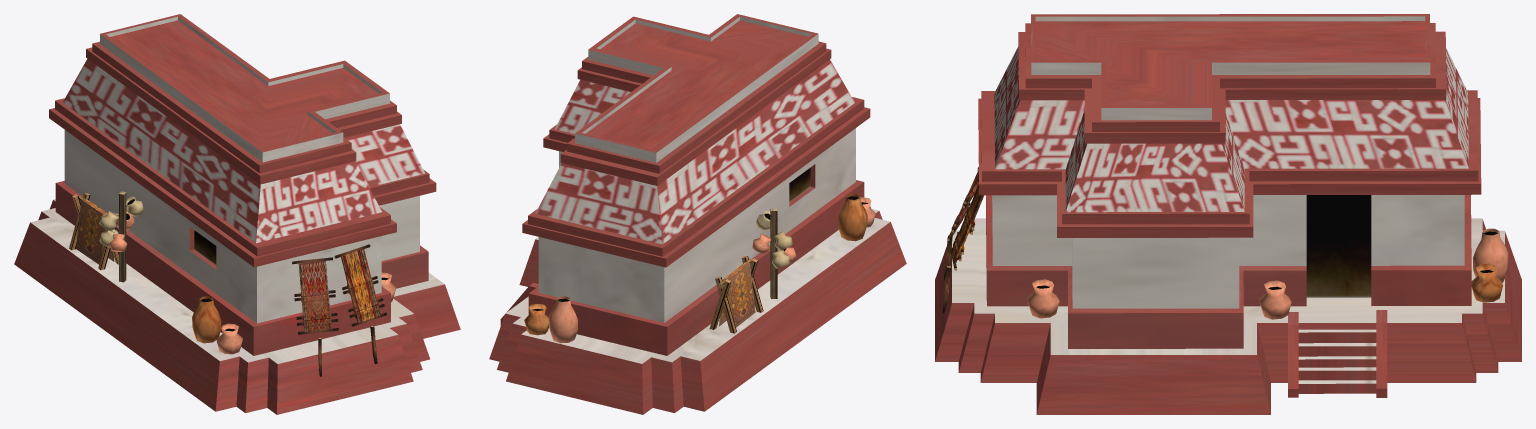
File: house_nobre_3.dae
3 views of the same model, side by side, from view 1: azimuth 30°, elevation 25°; view 2: azimuth 150°, elevation 25°; view 3: azimuth 270°, elevation 25° (orthographic). The views are drawn at different scales.
Parts seen in each view (by area): view 1: house_nobre_3; view 2: house_nobre_3; view 3: house_nobre_3.
Boxes of the visible parts, box(x1,y1,x2,y2) form: house_nobre_3: box(14, 14, 460, 414); house_nobre_3: box(489, 14, 906, 414); house_nobre_3: box(935, 14, 1521, 414).
Bounding box in the file's own units: 10.21 × 15.73 × 8.3.
